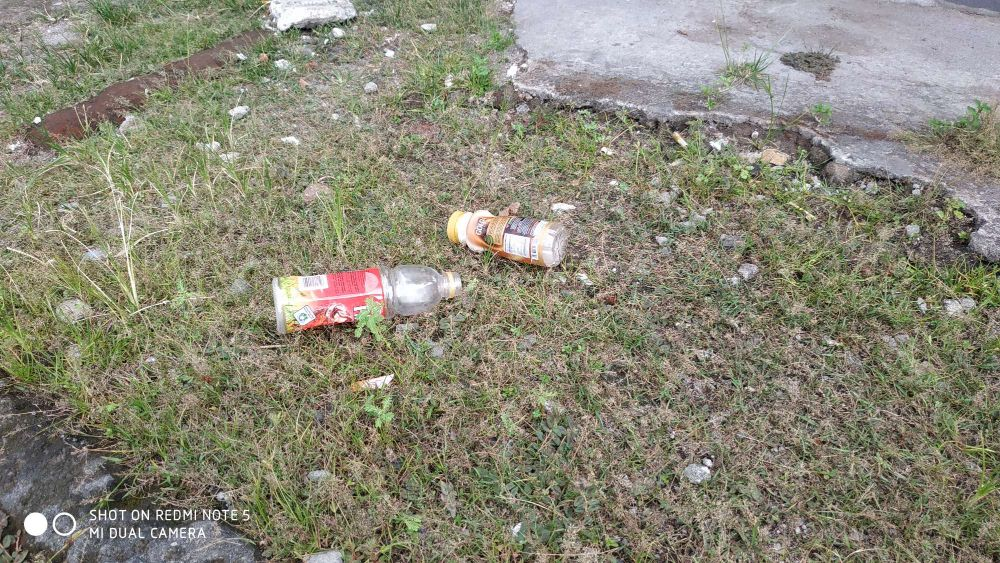botol: (256, 260, 474, 328), (435, 199, 573, 278)
